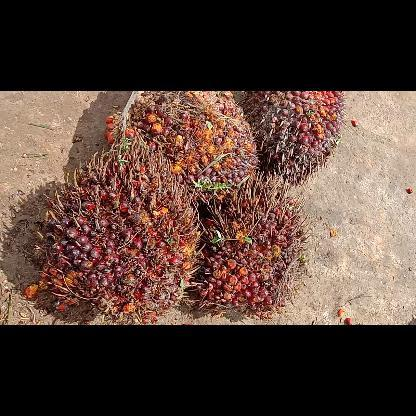TBS masak: (39, 136, 204, 320), (105, 91, 257, 199), (196, 172, 306, 316), (244, 90, 344, 184)
